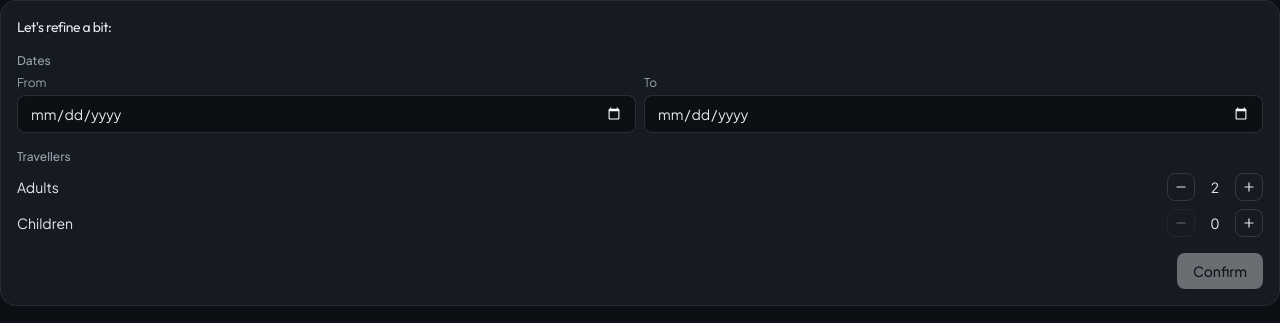
Test: QuickReplies › waits for both dates before it lets the answer through
Expected: the button "Confirm" is disabled, [1177, 253, 1263, 289]
Type "2026-10-23" into the date field labelled "From" at (326, 114), box [17, 95, 636, 133]
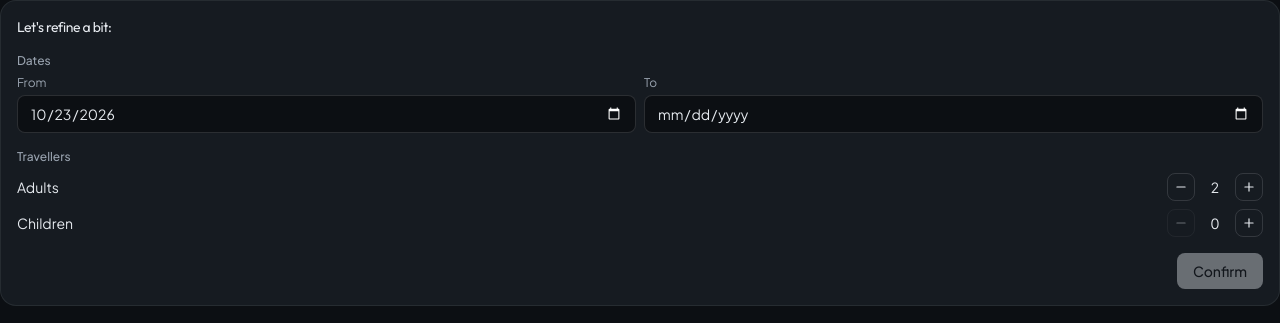
Expected: the button "Confirm" is disabled, [1177, 253, 1263, 289]
Type "2026-10-27" into the date field labelled "To" at (954, 114), box [644, 95, 1263, 133]
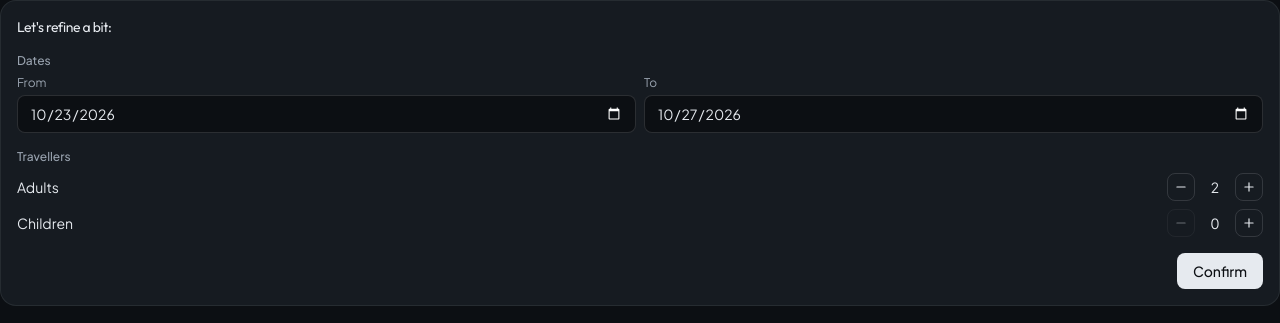
Expected: the button "Confirm" is enabled, [1177, 253, 1263, 289]
